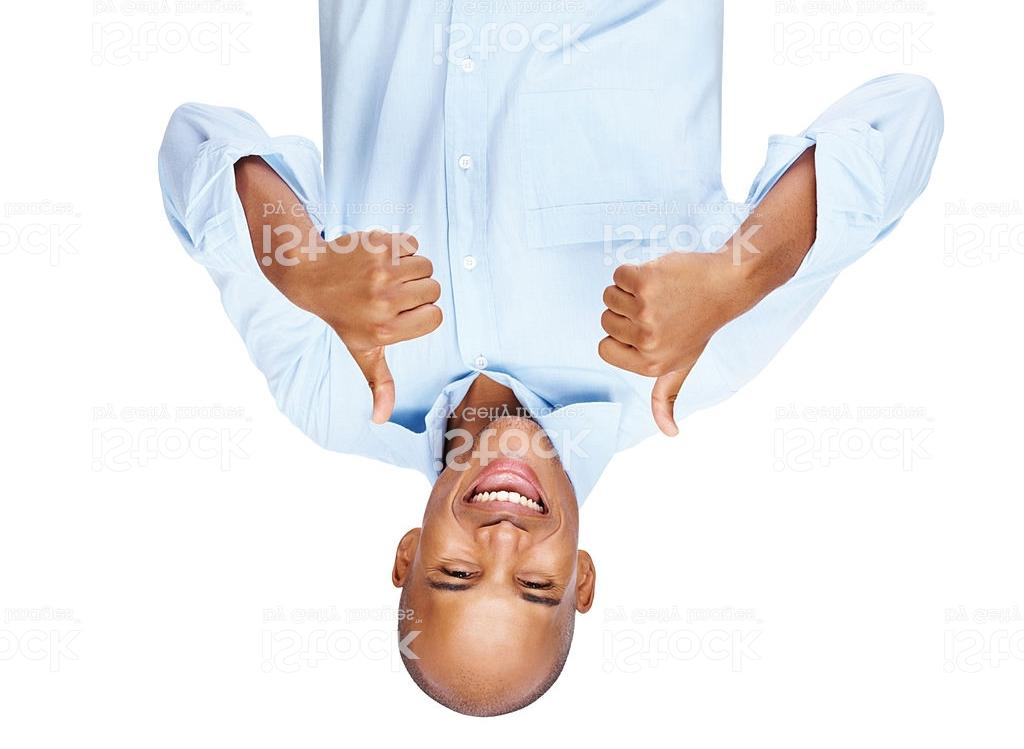thumbsdown: (364, 232, 445, 426), (598, 265, 681, 438)
